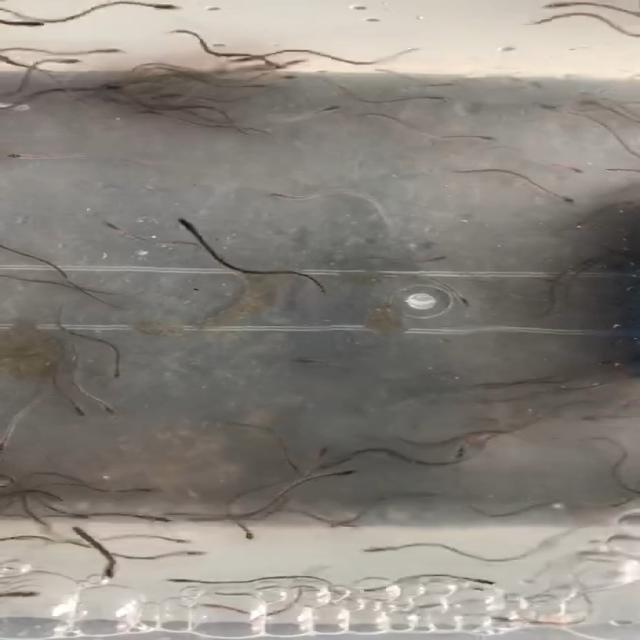active_glass_eel: (548, 159, 600, 183), (266, 456, 312, 479), (43, 398, 92, 418), (250, 70, 304, 88), (526, 101, 584, 117), (530, 0, 578, 19), (407, 246, 452, 266), (382, 40, 424, 60), (270, 180, 306, 202), (98, 478, 129, 503), (146, 91, 193, 107), (41, 56, 93, 70), (79, 44, 124, 60), (547, 193, 584, 212), (445, 573, 494, 587), (95, 564, 133, 582), (267, 45, 305, 62), (343, 542, 389, 556), (409, 92, 453, 106), (159, 211, 205, 224), (11, 14, 53, 28), (555, 292, 594, 306), (278, 102, 314, 117), (106, 358, 127, 383), (122, 511, 157, 526), (149, 0, 179, 17), (473, 124, 501, 142), (516, 268, 546, 284), (432, 281, 463, 296), (462, 75, 497, 88), (226, 51, 256, 66), (370, 365, 396, 382), (228, 528, 264, 540), (549, 364, 582, 377), (0, 436, 23, 454), (442, 446, 473, 459), (0, 150, 32, 162), (105, 77, 132, 91), (402, 401, 433, 413), (324, 468, 354, 477)
